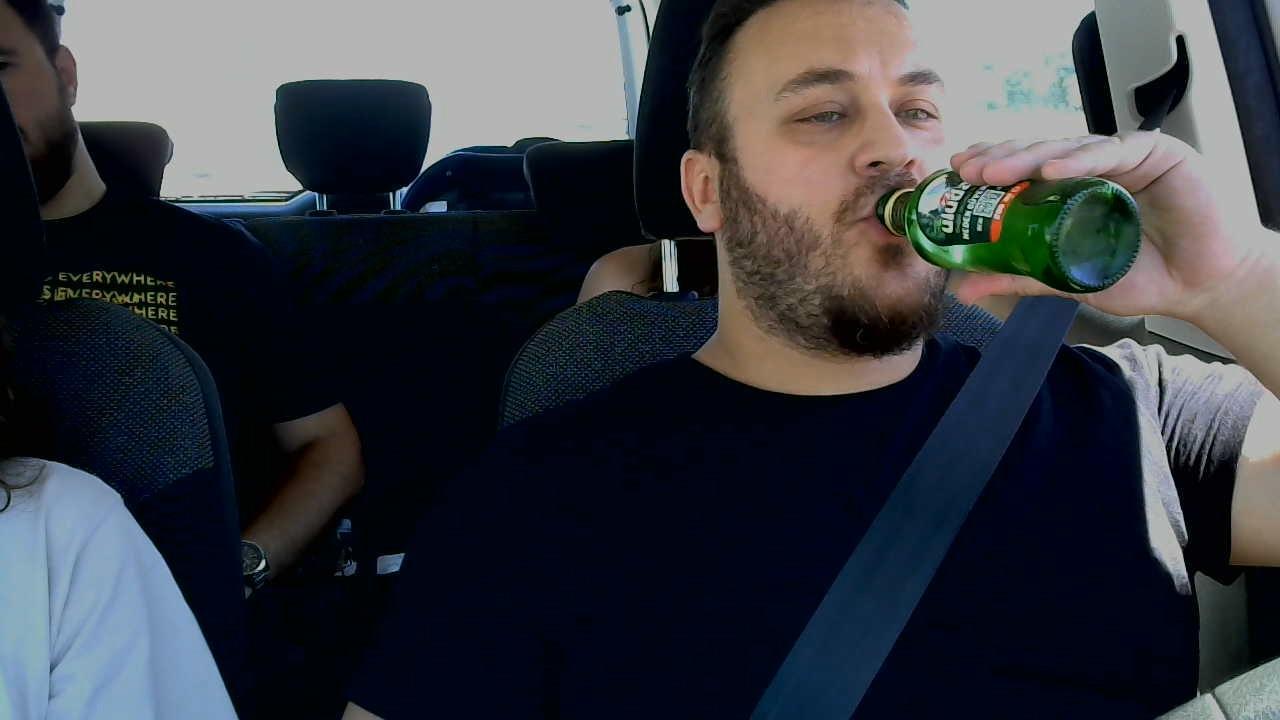Drinking: (877, 163, 1146, 294)
